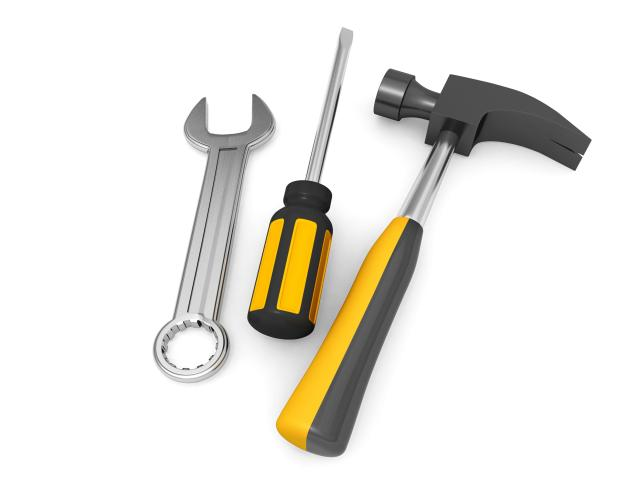Hammer: (276, 69, 590, 456)
Screwdriver: (248, 28, 352, 339)
Wrench: (154, 95, 275, 382)
